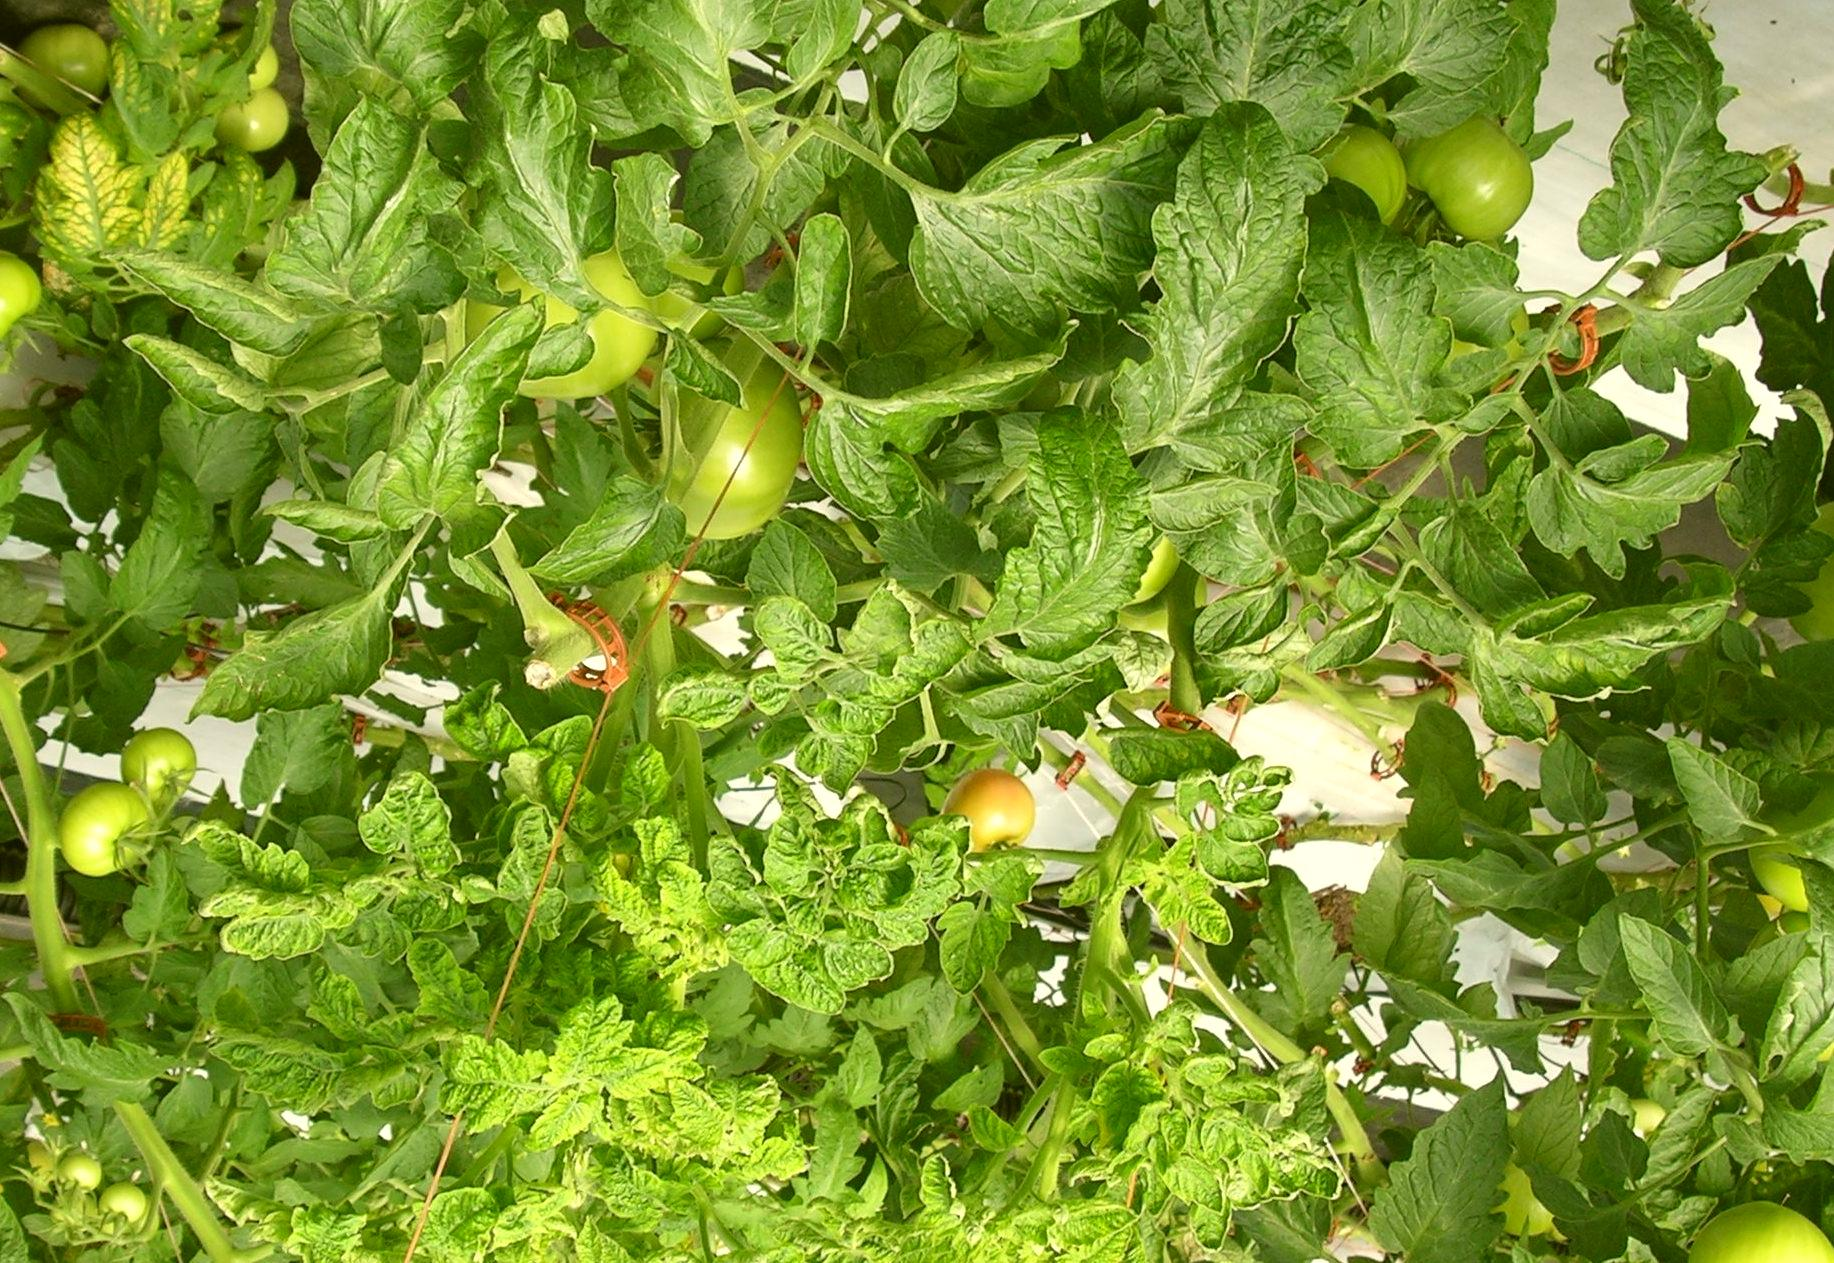Tomato leaf yellow virus: (1133, 91, 1332, 420), (957, 390, 1162, 659), (187, 797, 369, 966), (100, 0, 262, 155), (33, 116, 144, 282), (334, 758, 481, 877), (661, 1066, 801, 1172), (413, 1027, 553, 1126), (655, 829, 732, 993), (930, 887, 1020, 1011), (1084, 1057, 1171, 1158), (576, 824, 651, 937), (1153, 875, 1251, 960), (903, 1143, 976, 1246), (555, 990, 629, 1085), (566, 1202, 665, 1263), (1161, 1151, 1233, 1214)
